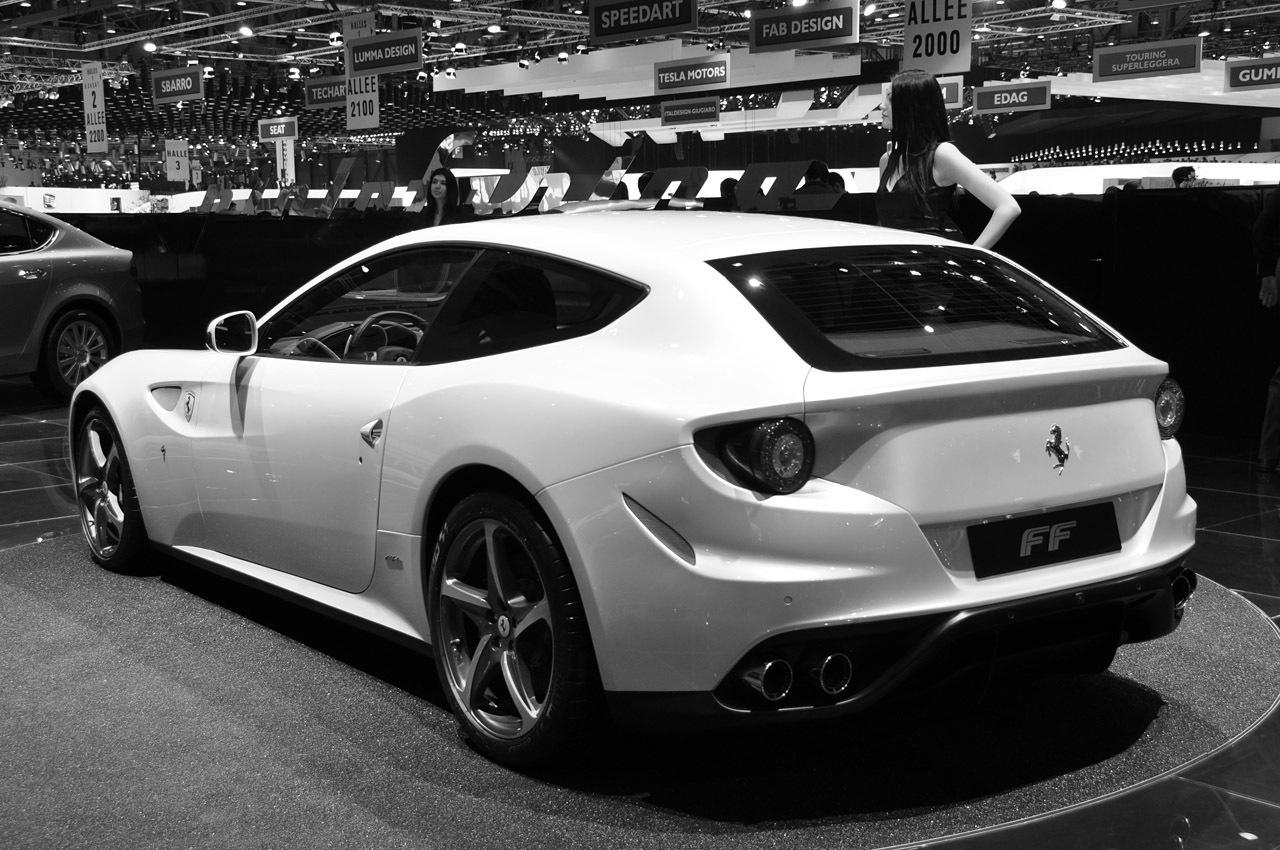car: (63, 209, 1206, 764)
